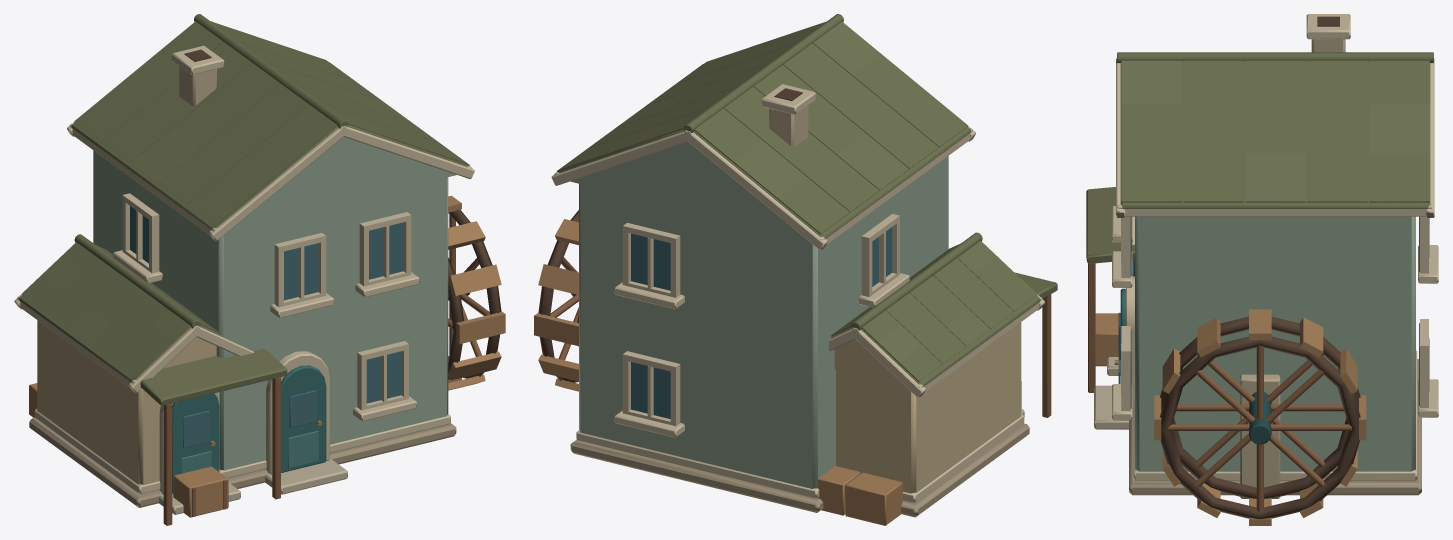
Rendered from watermill_level_3.glb.
3 views of the same model, side by side, from view 1: azimuth 30°, elevation 25°; view 2: azimuth 150°, elevation 25°; view 3: azimuth 270°, elevation 25° (orthographic). The views are drawn at different scales.
Visible parts, largest first — view 1: watermill_level_3_runtime; view 2: watermill_level_3_runtime; view 3: watermill_level_3_runtime.
Part boxes in pixels (x1,y1,x2,y2): watermill_level_3_runtime: (14,14,505,525); watermill_level_3_runtime: (534,14,1057,525); watermill_level_3_runtime: (1086,14,1438,525).
Bounding box in the file's own units: 6.51 × 5.62 × 4.64.
